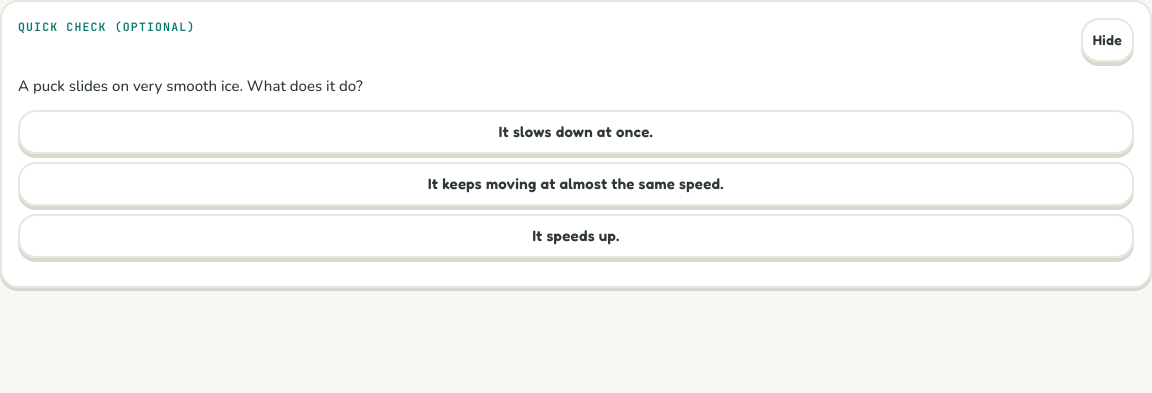
Test: ProbeCard › says in words that a right answer is right, and shows the correction and what it rests on
The image size is (1152, 393).
Click the button "It keeps moving at almost the same speed.": (576, 184) [18, 162, 1134, 206]
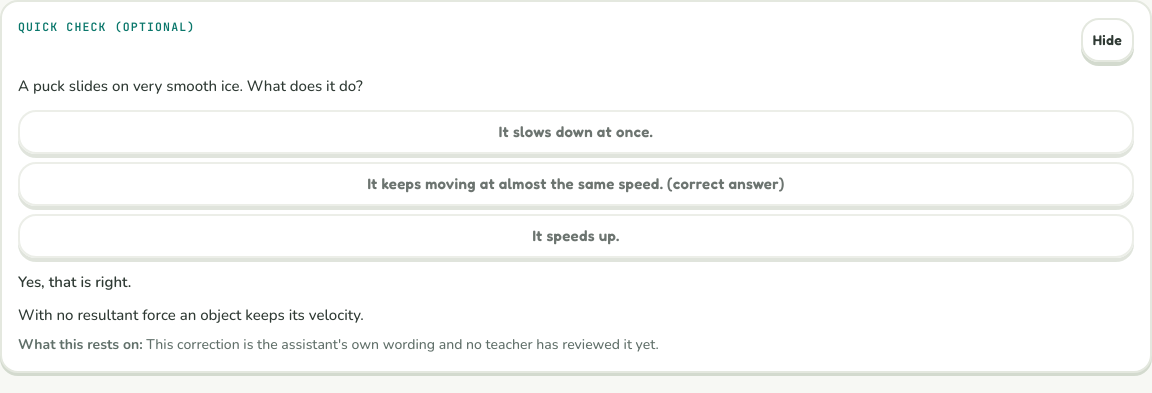
Result: the message shows "Yes, that is right." at [18, 272, 131, 292]
Result: the message shows "With no resultant force an object keeps its velocity." at [18, 305, 364, 325]
Result: the message shows "no teacher has reviewed it" at [146, 335, 659, 354]
